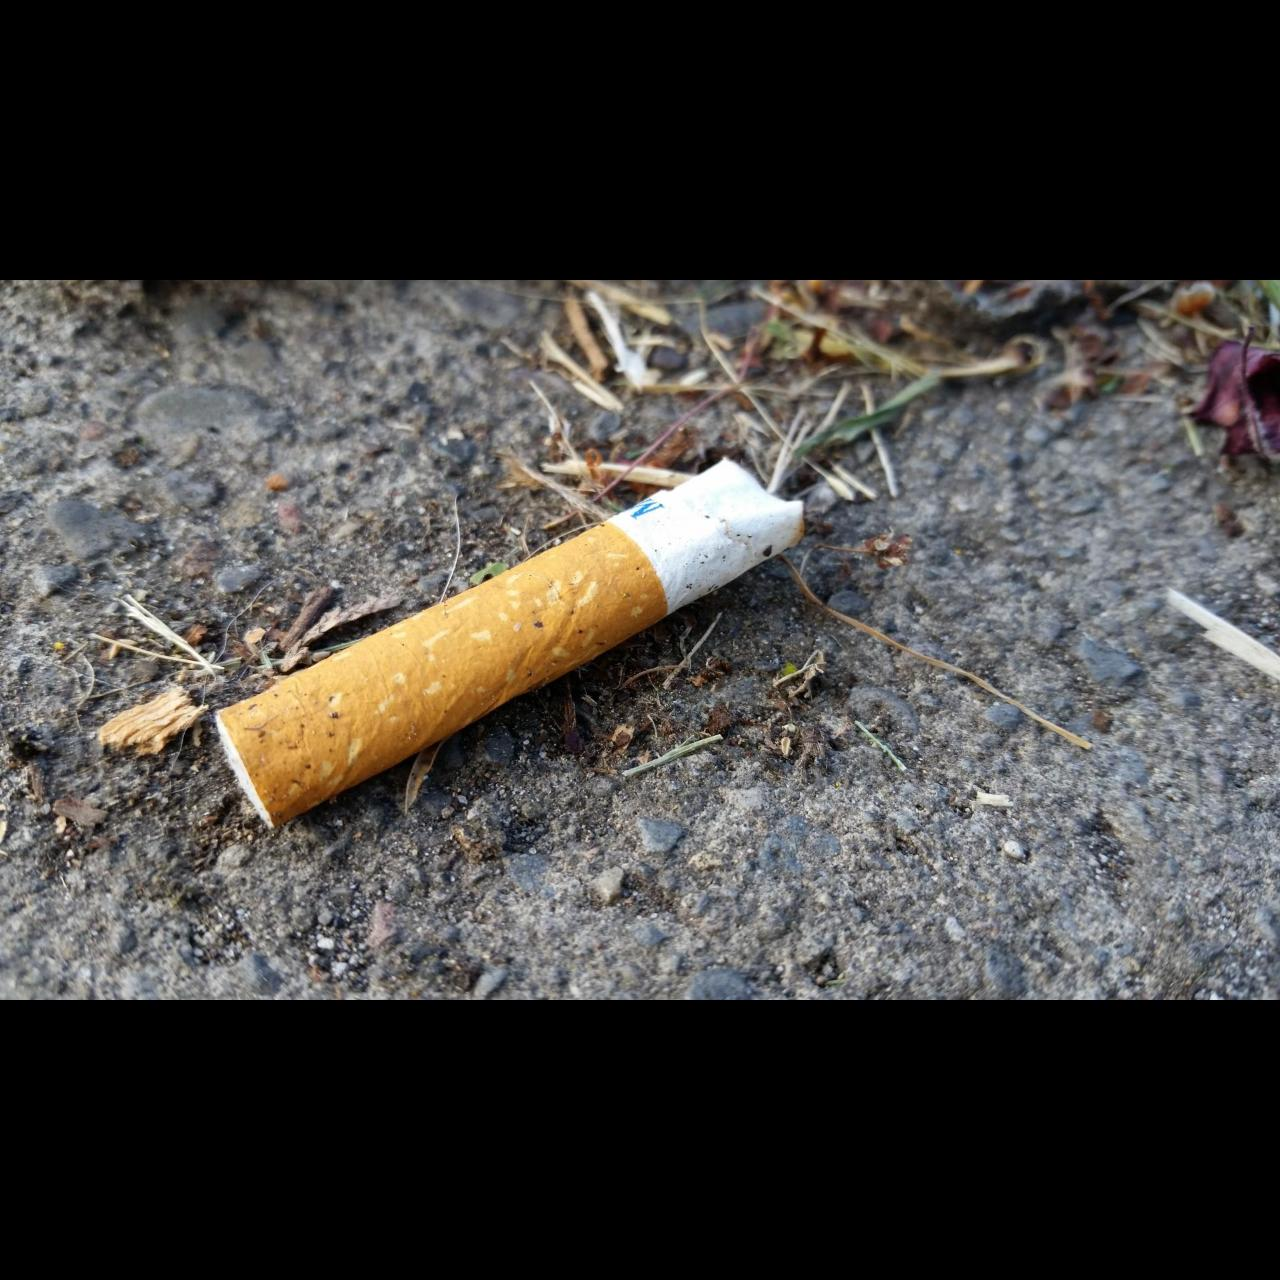cigarettes_butts: (215, 460, 807, 828)
